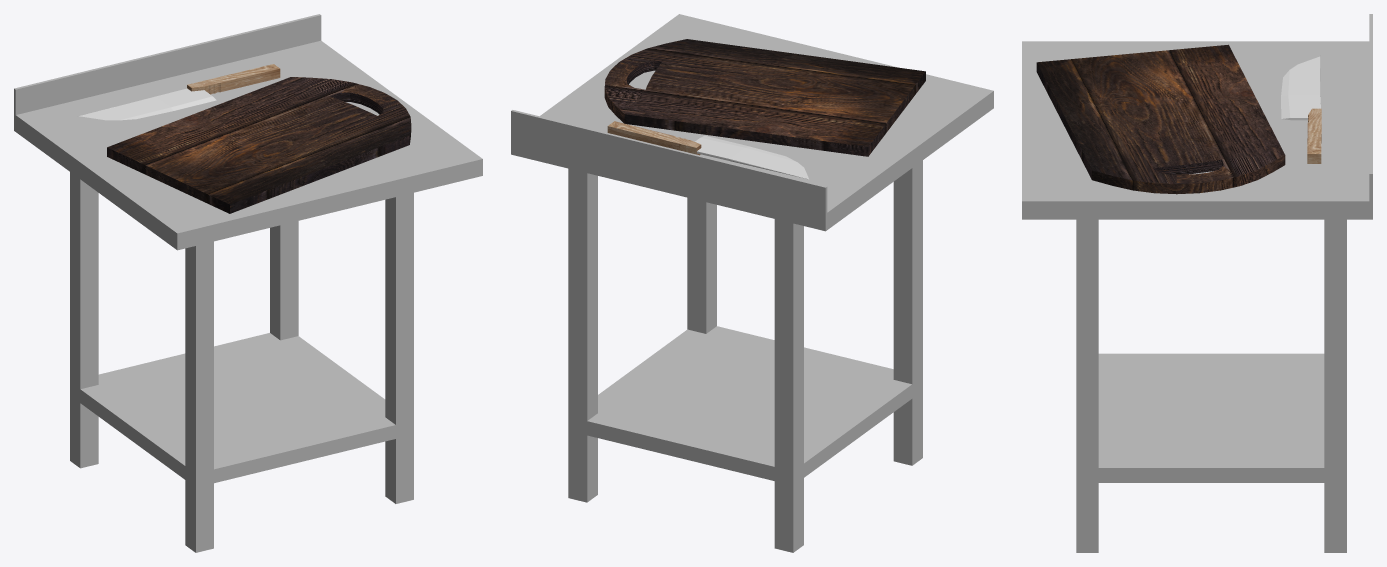
The model's file is CuttingTable.fbx.
3 views of the same model, side by side, from view 1: azimuth 30°, elevation 25°; view 2: azimuth 150°, elevation 25°; view 3: azimuth 270°, elevation 25° (orthographic). The views are drawn at different scales.
Parts seen in each view (by area): view 1: Table, Wood, Knife, Ruchka; view 2: Table, Wood, Knife, Ruchka; view 3: Table, Wood, Knife, Ruchka.
Part boxes in pixels (x1=…): Table: x1=14, y1=14, x2=482, y2=552; Wood: x1=107, y1=77, x2=411, y2=213; Knife: x1=79, y1=88, x2=216, y2=120; Ruchka: x1=187, y1=64, x2=280, y2=94; Table: x1=511, y1=14, x2=993, y2=552; Wood: x1=604, y1=39, x2=925, y2=156; Knife: x1=695, y1=135, x2=808, y2=179; Ruchka: x1=607, y1=121, x2=701, y2=155; Table: x1=1022, y1=14, x2=1372, y2=552; Wood: x1=1036, y1=44, x2=1285, y2=194; Knife: x1=1281, y1=55, x2=1320, y2=120; Ruchka: x1=1307, y1=108, x2=1321, y2=163.
Bounding box in the file's own units: 1.2 × 1.11 × 1.4.
4 materials, 2 textured.
